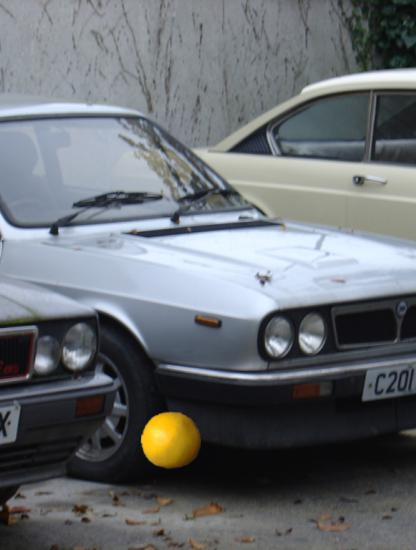Grapefruit: (141, 410, 202, 471)
